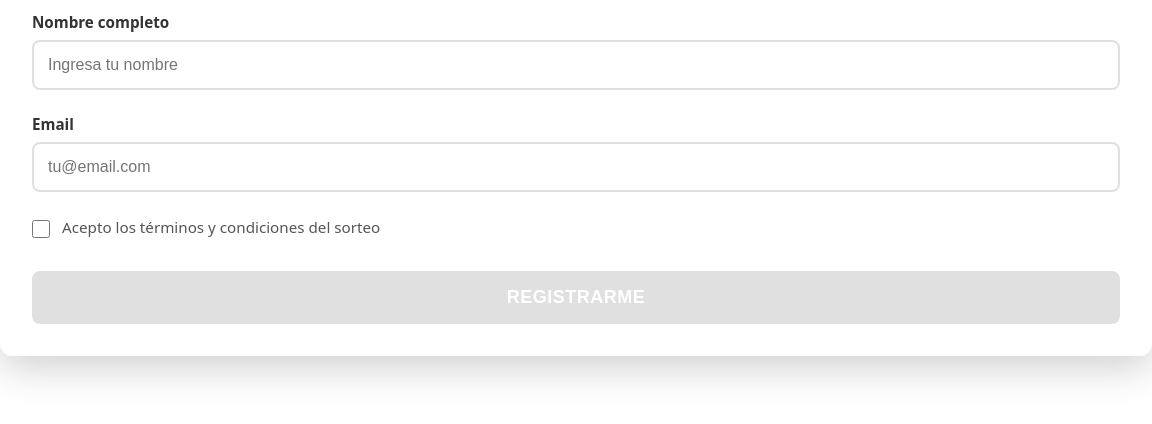
Test: RegistrationForm › valida formato de email correctamente
Type "Test User" into the field with id "name" at coordinates (576, 65), box x1=32 y1=40 x2=1120 y2=90
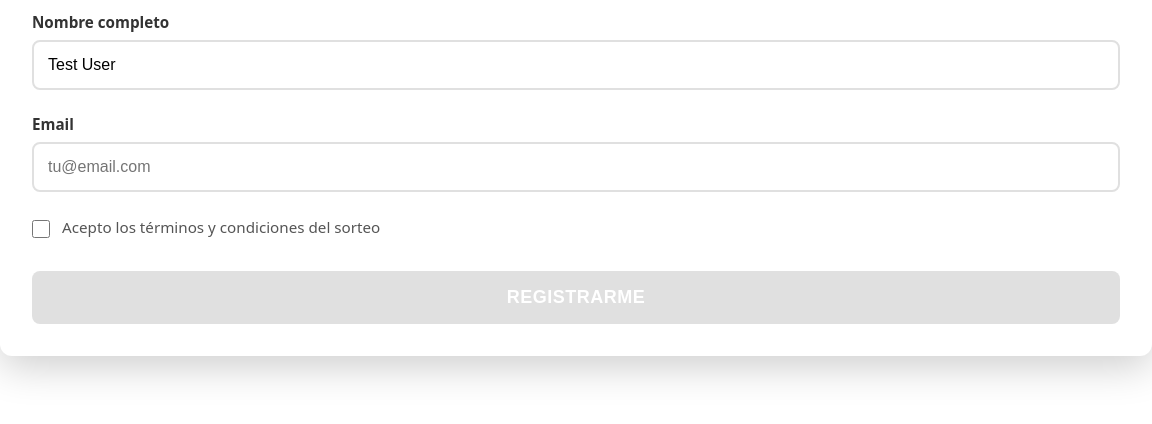
Click the checkbox with id "terms" at coordinates (41, 229), box x1=32 y1=220 x2=50 y2=238
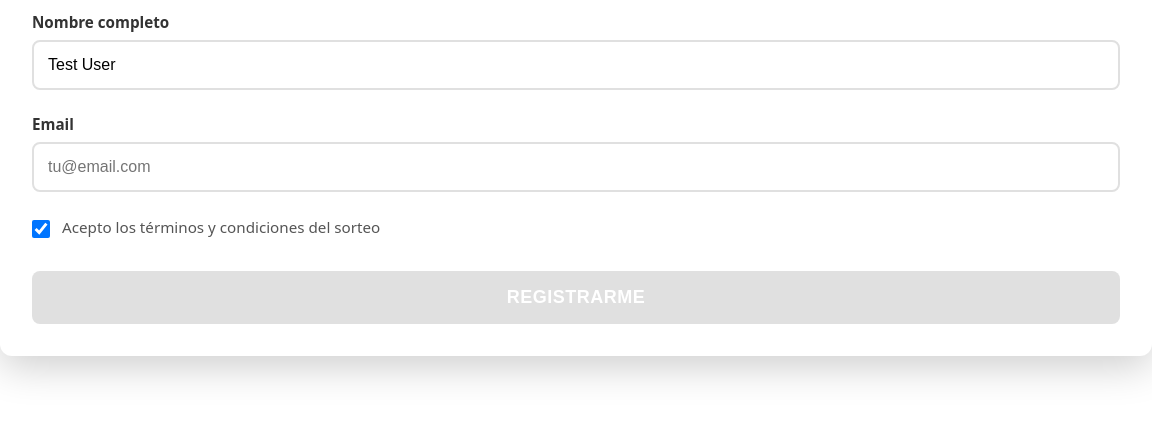
Email inválido
Type "invalid-email" into the field with id "email" at coordinates (576, 167), box x1=32 y1=142 x2=1120 y2=192
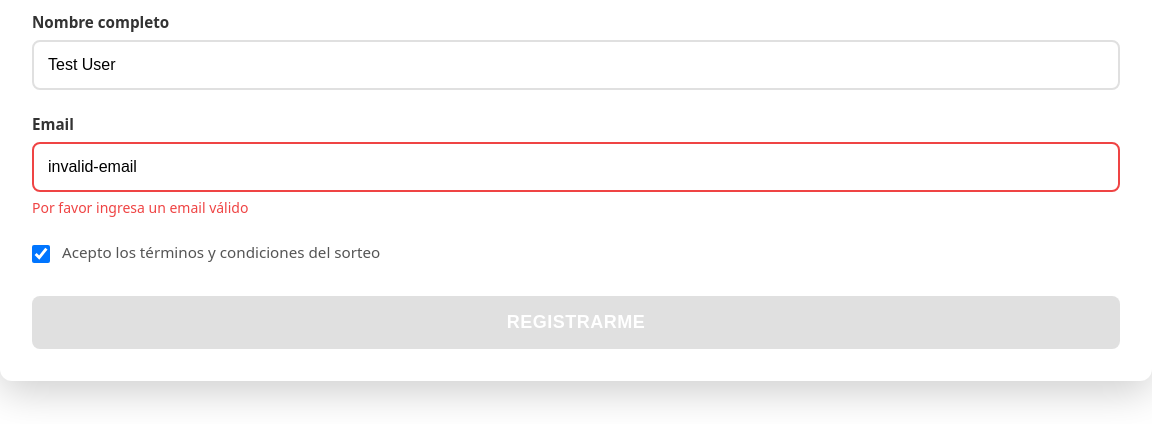
Expected: the submit button is disabled, x1=32 y1=296 x2=1120 y2=349
Email válido
Replace the text in the field with id "email" with "valid@email.com" at coordinates (576, 167), box x1=32 y1=142 x2=1120 y2=192
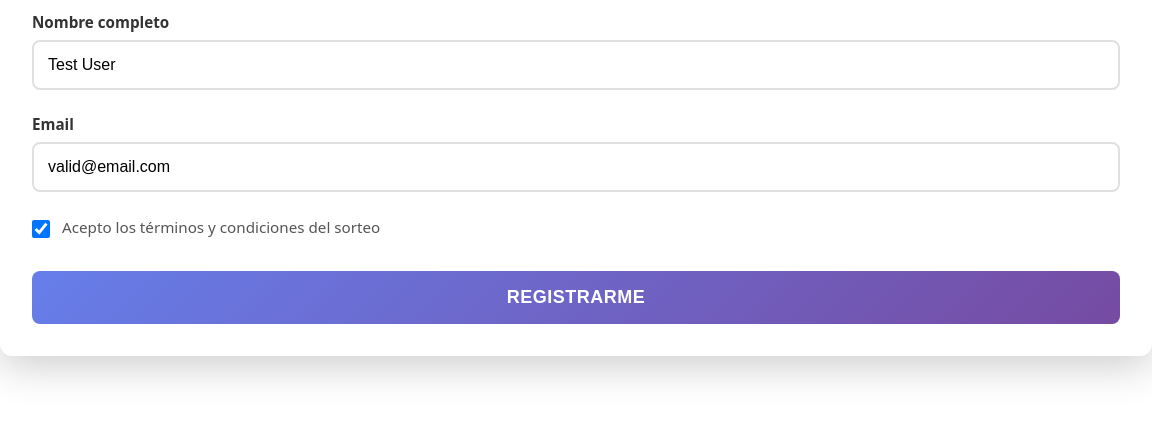
Expected: the submit button is enabled, x1=32 y1=271 x2=1120 y2=324
